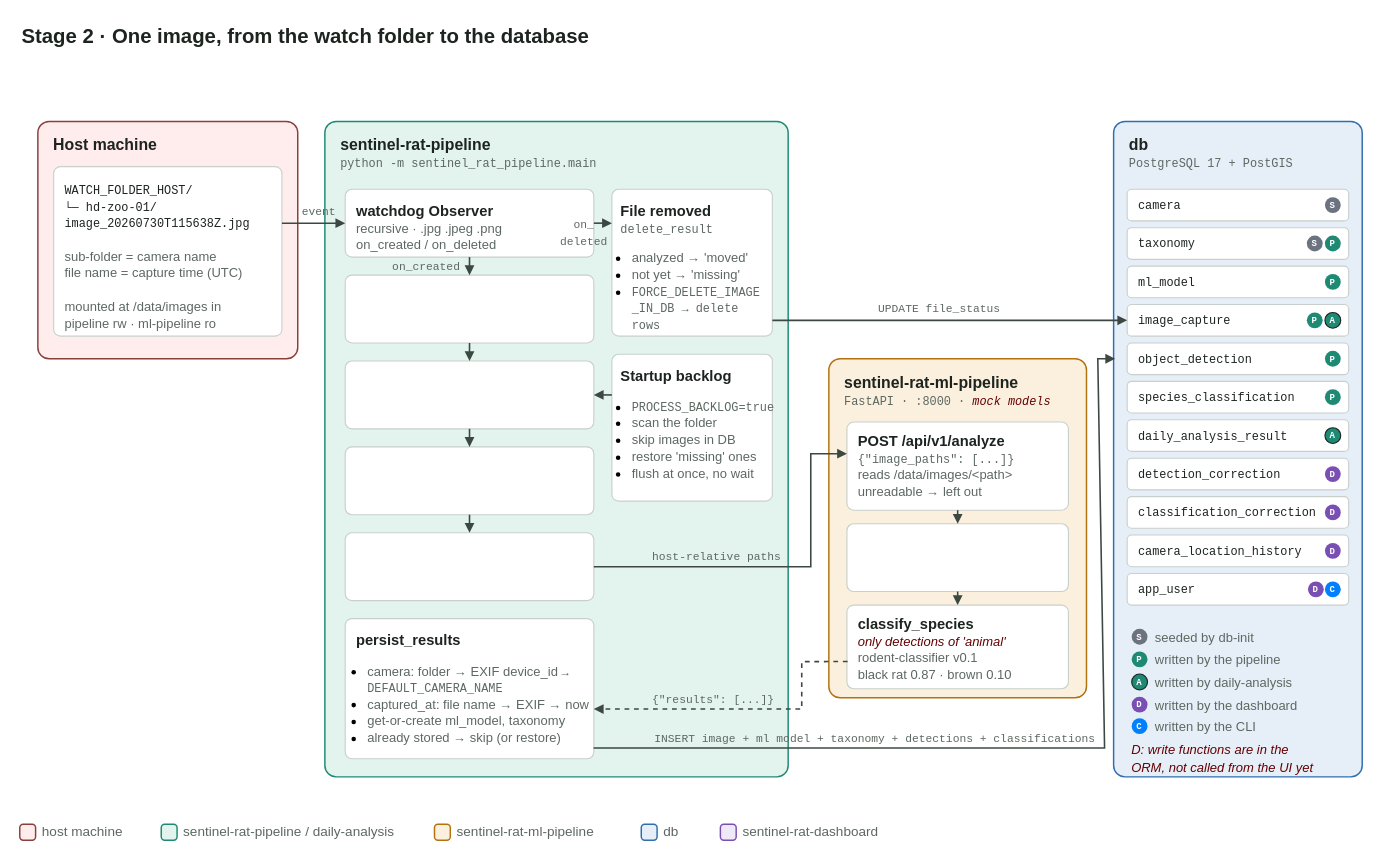
Image size: 1383x861. Some labels were removed from this diagram. Each missing label, with the centre of its shape:
Chunk + rewrite paths MAX_BATCH_SIZE=50 /data/images/x → x: pixel 469 480
detect_animals megadetector v5a animal 0.92 · person 0.81: pixel 957 557
ImageBatcher BATCH_WINDOW_SECONDS=60 first image opens the window: pixel 469 394
run_analysis_remote POST /api/v1/analyze 5 tries · 300 s timeout: pixel 469 566
Wait until fully copied mtime unchanged 3 × 0.5 s dedup via shared _SEEN set: pixel 469 308
